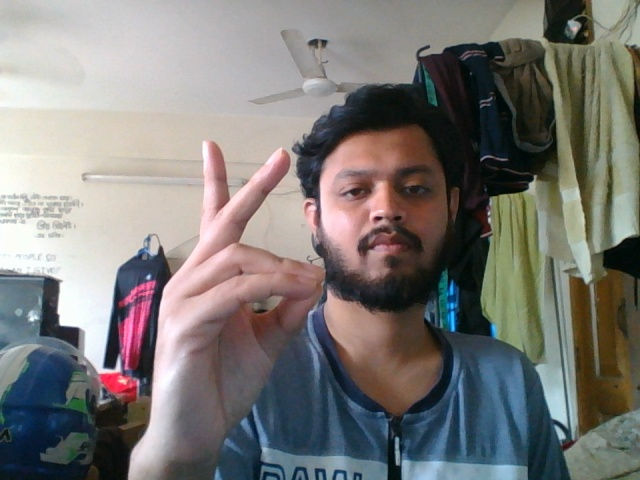na: (146, 131, 326, 479)
